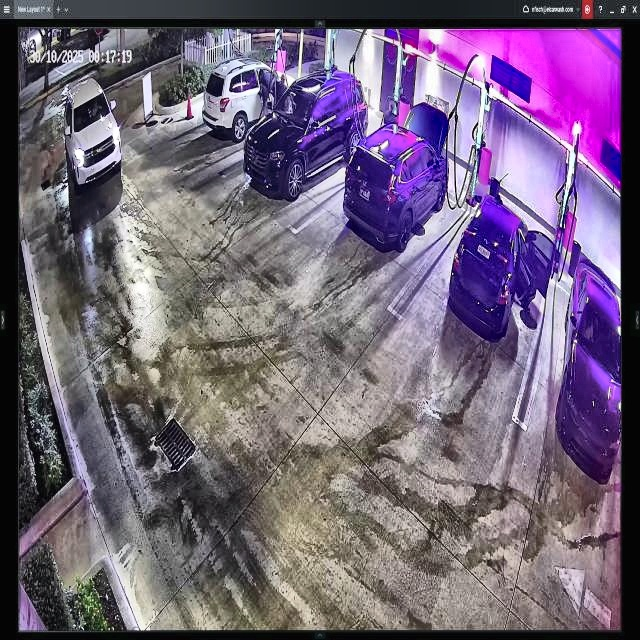Car: (344, 100, 451, 250), (449, 190, 556, 337), (246, 75, 364, 196)
